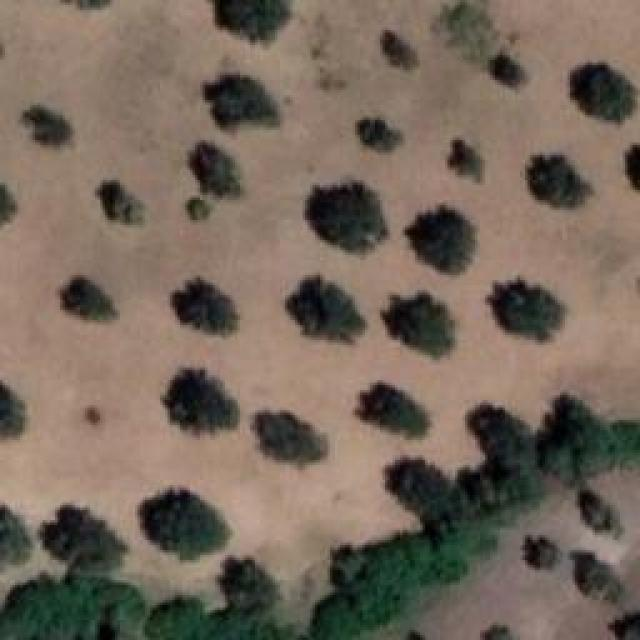Tree: (330, 543, 462, 623), (0, 577, 145, 640), (143, 490, 232, 559), (307, 186, 391, 256), (284, 278, 368, 347), (550, 392, 618, 474), (408, 203, 476, 280), (43, 503, 120, 571), (383, 290, 456, 360), (203, 65, 284, 128), (163, 360, 238, 428), (560, 60, 629, 131), (490, 280, 566, 340), (455, 461, 556, 504), (425, 508, 502, 562), (525, 150, 595, 208), (260, 400, 323, 464), (357, 380, 427, 437), (385, 460, 455, 516), (175, 275, 240, 334), (188, 140, 252, 199), (468, 408, 536, 463), (213, 0, 294, 43), (435, 0, 496, 46), (93, 183, 145, 232), (63, 275, 113, 325), (145, 598, 204, 640), (303, 595, 358, 640), (208, 610, 289, 639), (223, 560, 272, 607), (25, 105, 73, 152), (573, 555, 621, 602), (0, 375, 30, 448), (0, 502, 29, 572), (450, 135, 488, 179), (482, 53, 527, 90), (383, 28, 418, 69), (178, 195, 220, 227), (582, 495, 614, 535), (360, 115, 397, 149), (522, 533, 556, 569), (613, 425, 640, 463), (0, 180, 15, 230), (625, 150, 640, 195)
